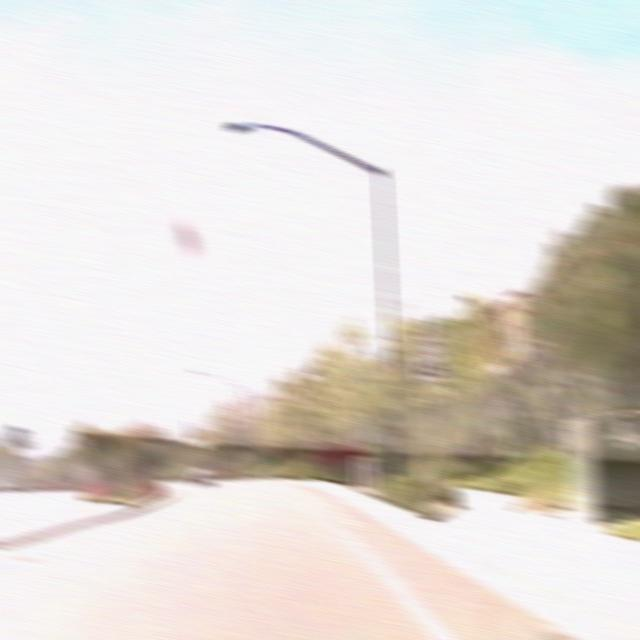speedLimit45: (412, 333, 447, 382)
